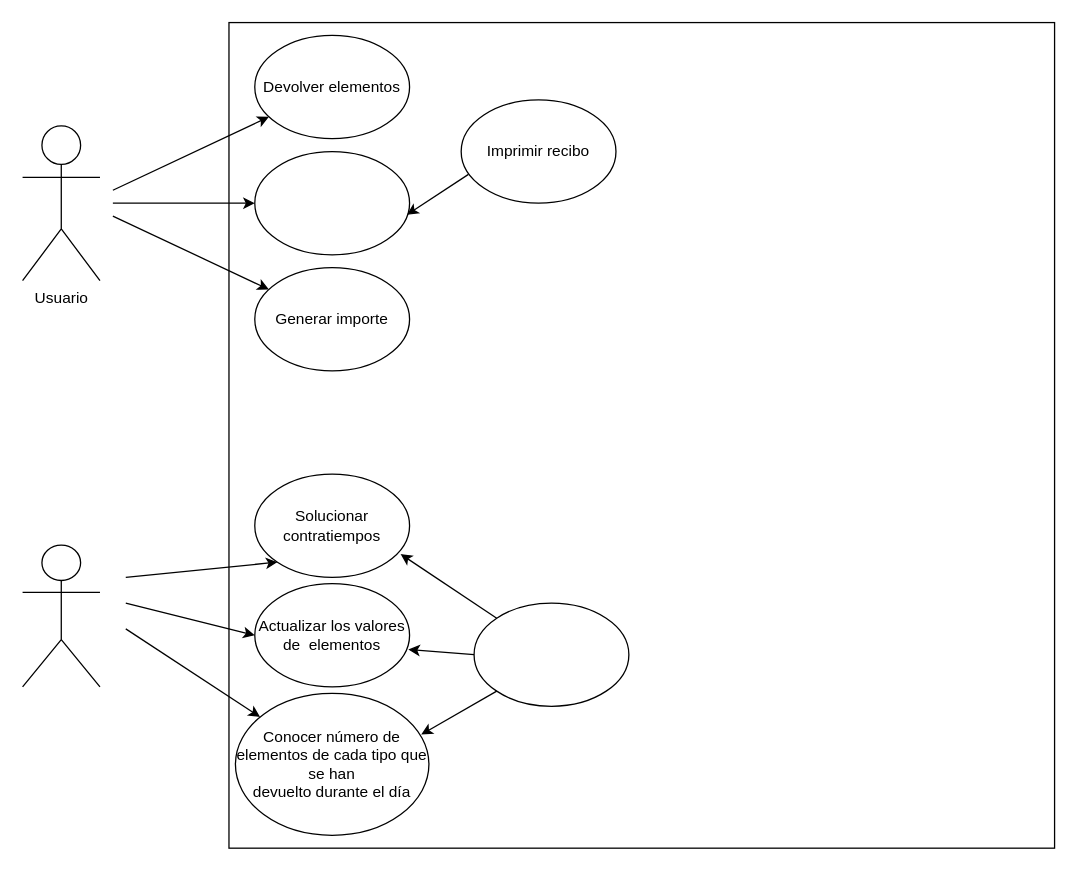
This 1077x871 diagram has some shape labels left out. Here are the shapes that lost their labels. From the top down, the centre of each, then its label:
At (331,202): "Generar recibo".
At (60,615): "Operador".
At (551,654): "Identificar empleado".
